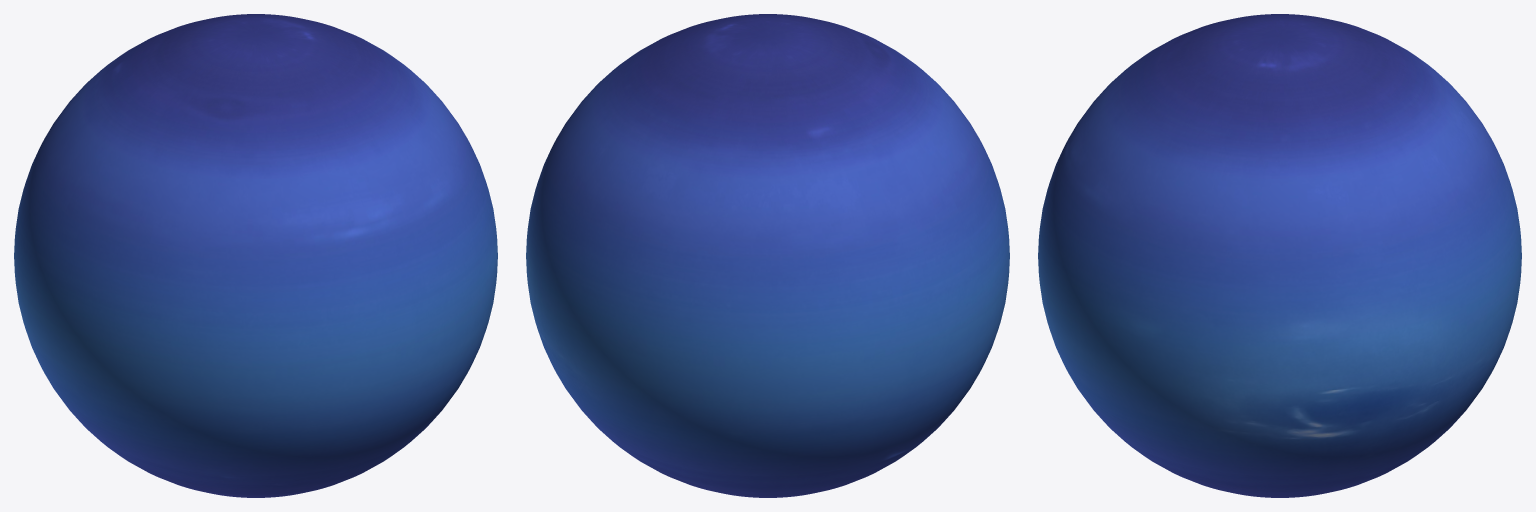
File: neptune.glb
3 views of the same model, side by side, from view 1: azimuth 30°, elevation 25°; view 2: azimuth 150°, elevation 25°; view 3: azimuth 270°, elevation 25° (orthographic).
Bounding box in the file's own units: 2 × 2 × 2.
Materials: 1 (1 with a texture image).
